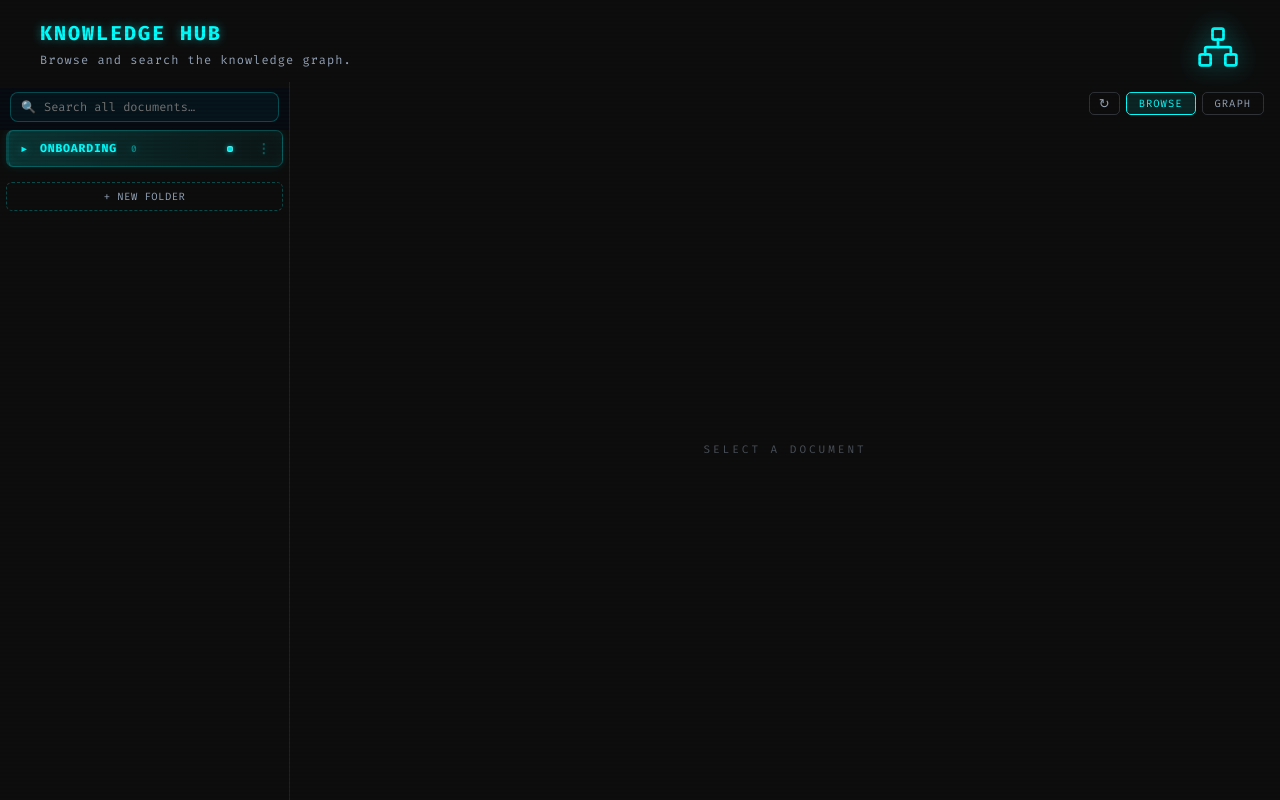
Scenario: KnowledgeHub refresh › re-reads the folder tree from disk when the refresh button is clicked
Expected: the text "Onboarding" is shown, [40,141,117,156]
Expected: the text "New Stuff" is not shown
Click the button named "refresh".
click(1104, 104)  # box [1089,92,1120,115]
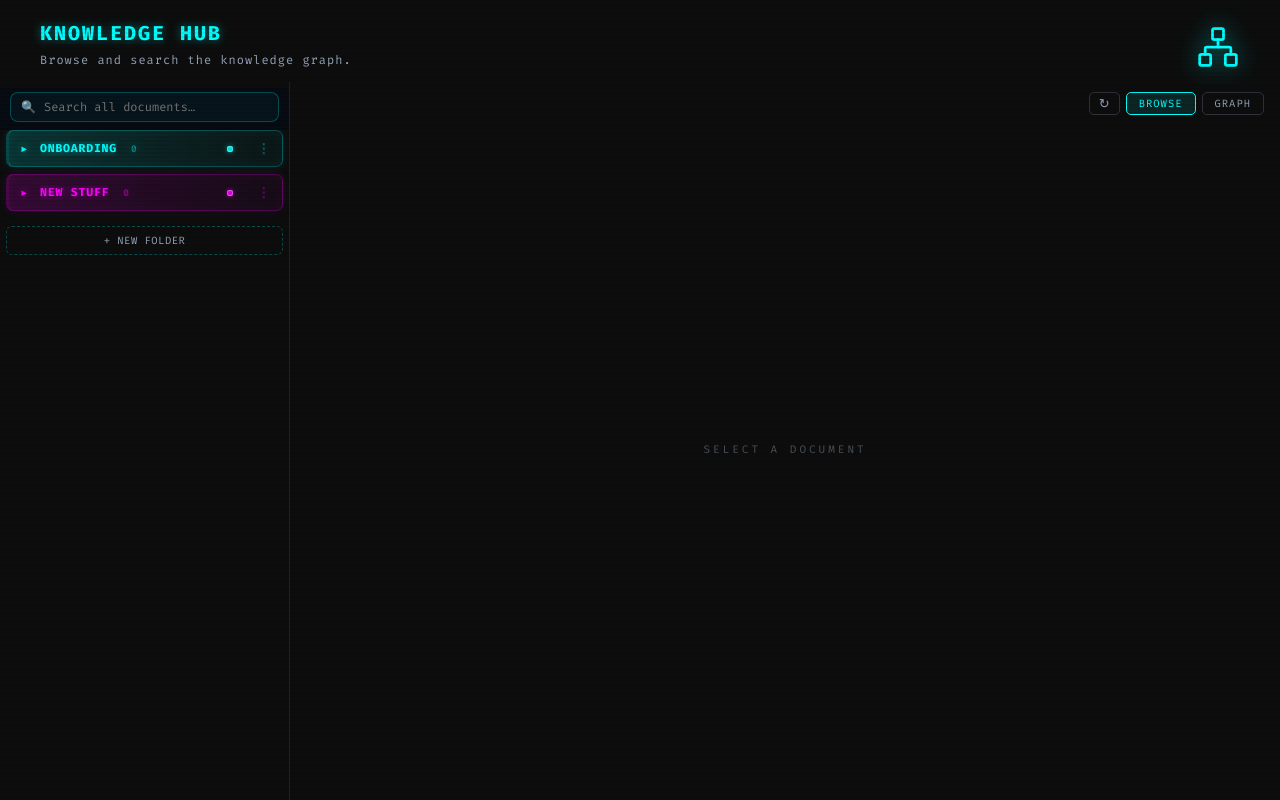
Expected: the text "New Stuff" is shown, [40,185,109,200]
